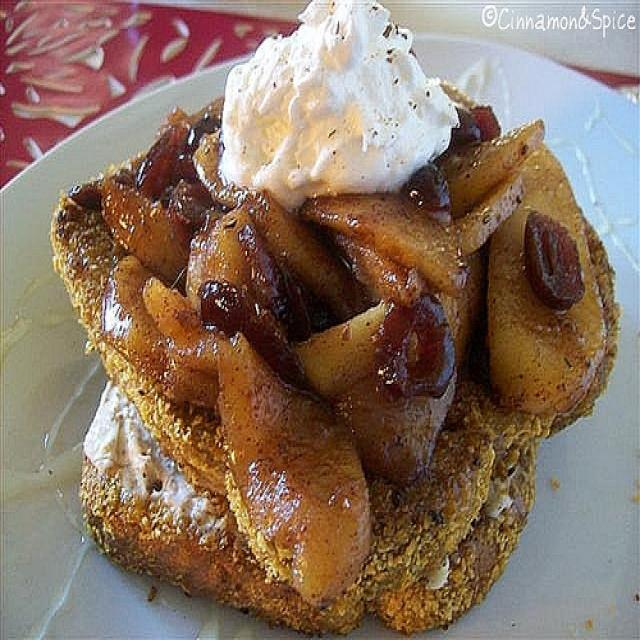面包点心: (37, 21, 609, 604)
